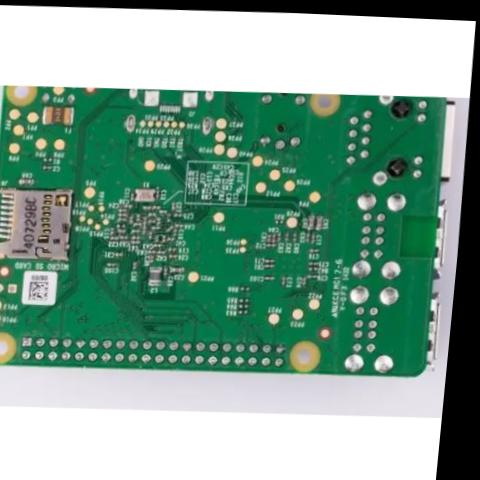Raspberry-Pi-1-Model-B-: (0, 76, 470, 389)
